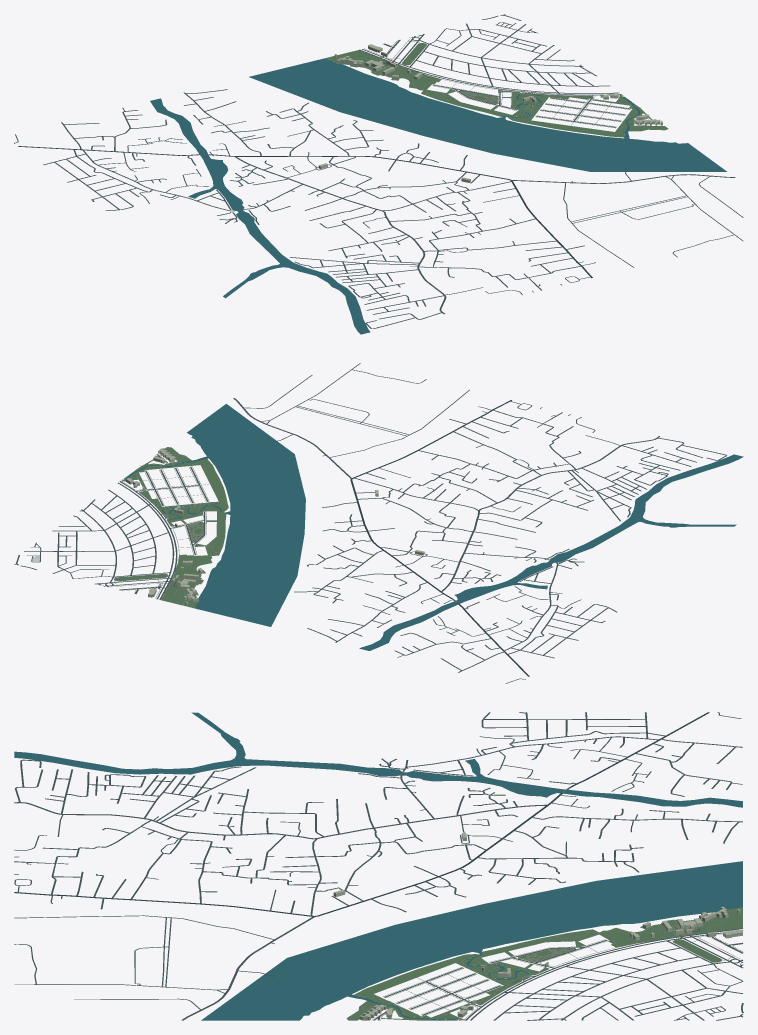
The picture shows the model from 3 angles, top to bottom: view 1: azimuth 30°, elevation 25°; view 2: azimuth 150°, elevation 25°; view 3: azimuth 270°, elevation 25°; orthographic projection. The views are drawn at different scales.
Parts seen in each view (by area): view 1: water, street, green, path, building, major; view 2: water, street, green, path, building, major; view 3: water, street, green, path, building, major.
Part boxes in pixels (x1,y1,x2,y2): water: [150, 58, 726, 334]; street: [14, 14, 743, 328]; green: [324, 43, 668, 137]; path: [328, 36, 667, 132]; building: [318, 44, 662, 182]; major: [18, 146, 592, 278]; water: [124, 403, 743, 650]; street: [14, 363, 726, 683]; green: [114, 447, 228, 608]; path: [100, 447, 222, 607]; building: [125, 448, 424, 605]; major: [350, 400, 529, 676]; water: [14, 712, 742, 1020]; street: [14, 712, 743, 1020]; green: [346, 907, 742, 1020]; path: [350, 909, 742, 1020]; building: [333, 832, 742, 1020]; major: [14, 712, 709, 916].
Bounding box in the file's own units: 2005 × 10.7 × 2003.
